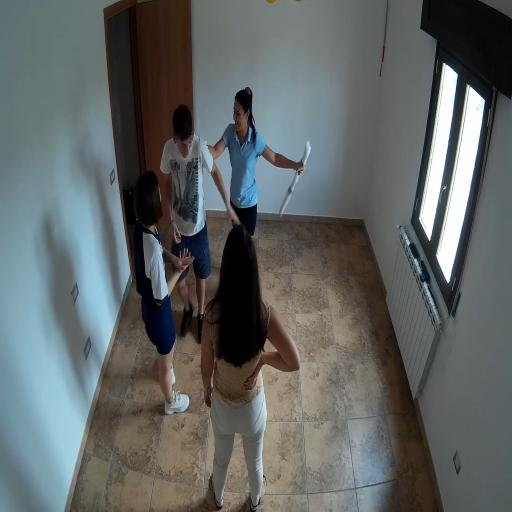nao-violencia: (155, 82, 314, 316)
